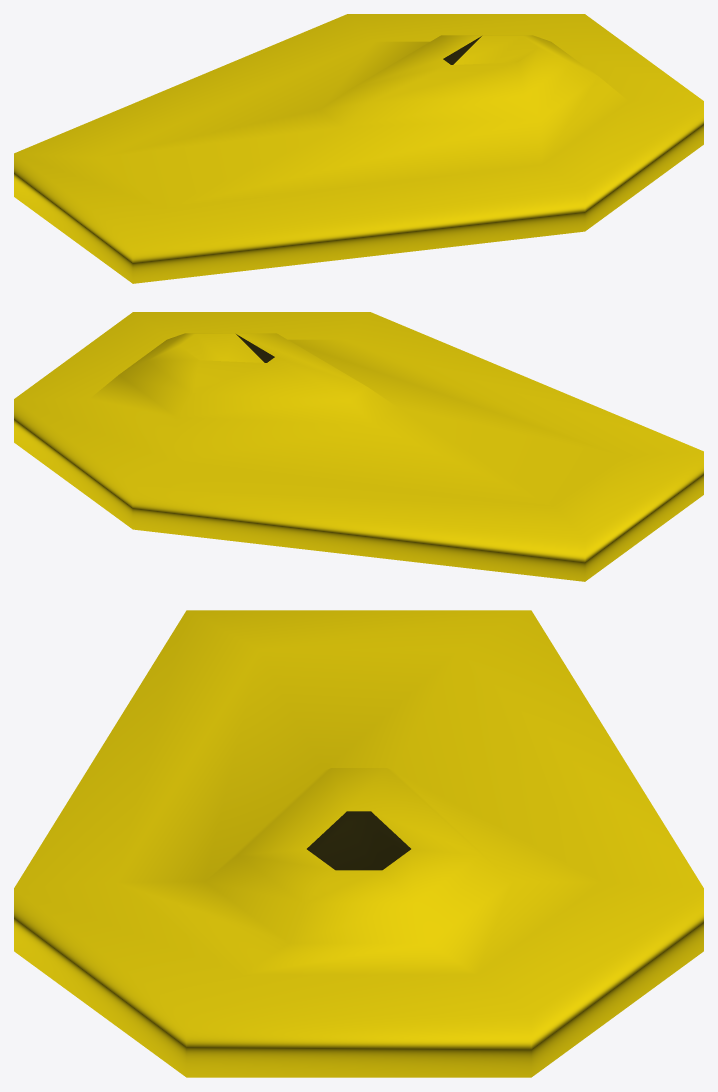
The model's file is Mote.fbx.
The picture shows the model from 3 angles, top to bottom: view 1: azimuth 30°, elevation 25°; view 2: azimuth 150°, elevation 25°; view 3: azimuth 270°, elevation 25°; orthographic projection. The views are drawn at different scales.
Parts seen in each view (by area): view 1: Cylinder; view 2: Cylinder; view 3: Cylinder.
Part boxes in pixels (box(x1,y1,x2,y2)): Cylinder: box(14, 14, 703, 283); Cylinder: box(14, 312, 703, 581); Cylinder: box(14, 610, 703, 1077).
Size of the model in its own units: 64.53 by 9.42 by 46.55.
